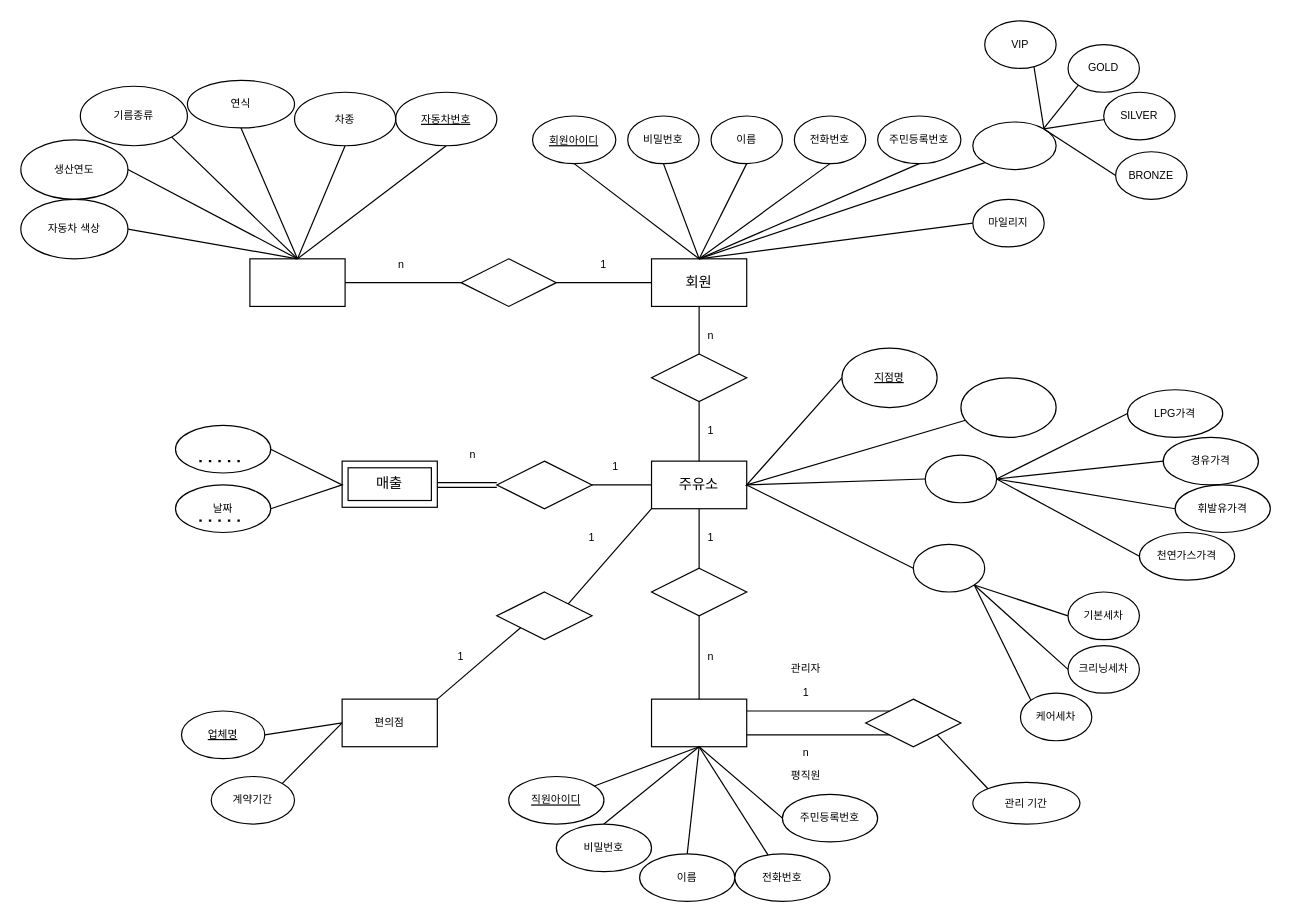
The diagram is 1291 pixels wide and 922 high, and some of its shapes have lost their labels. The shapes that lost their labels are listed below. From the top down, each one's centre as x and y in pixels, then its label:
the point at 1014,145: 등급
the point at 297,282: 자동차
the point at 508,282: 보유
the point at 698,377: 서비스
the point at 1008,407: 자동차 수용 가능 수
the point at 222,448: 금액
the point at 544,484: 수입
the point at 960,478: 유가
the point at 948,567: 세차
the point at 698,591: 소속
the point at 544,615: 계약
the point at 698,722: 직원
the point at 913,722: 관리
